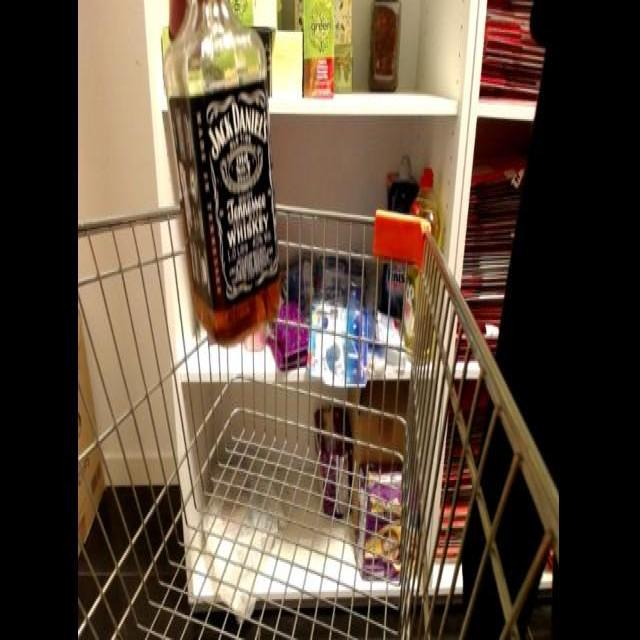Jack Daniels: (152, 0, 284, 347)
